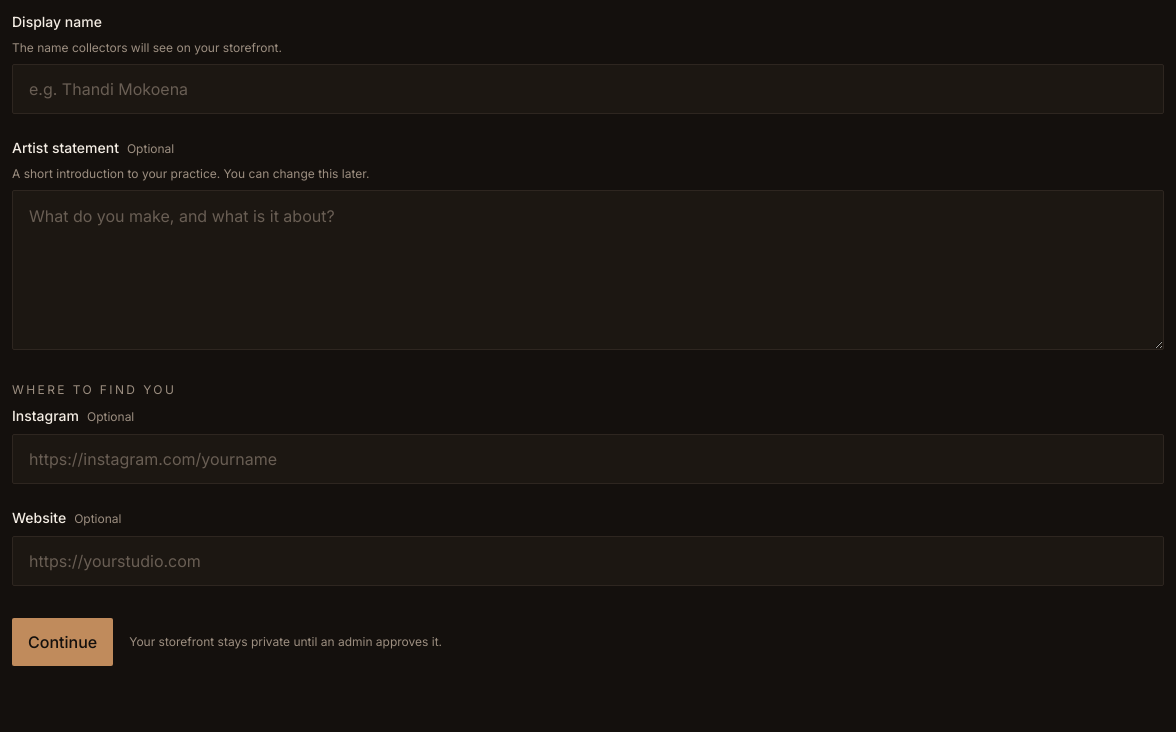
ArtistProfileForm — validation › clears the error once the field is corrected and resubmitted
Click the button "Continue" at (63, 642), box top-left (12, 618), bottom-right (113, 666)
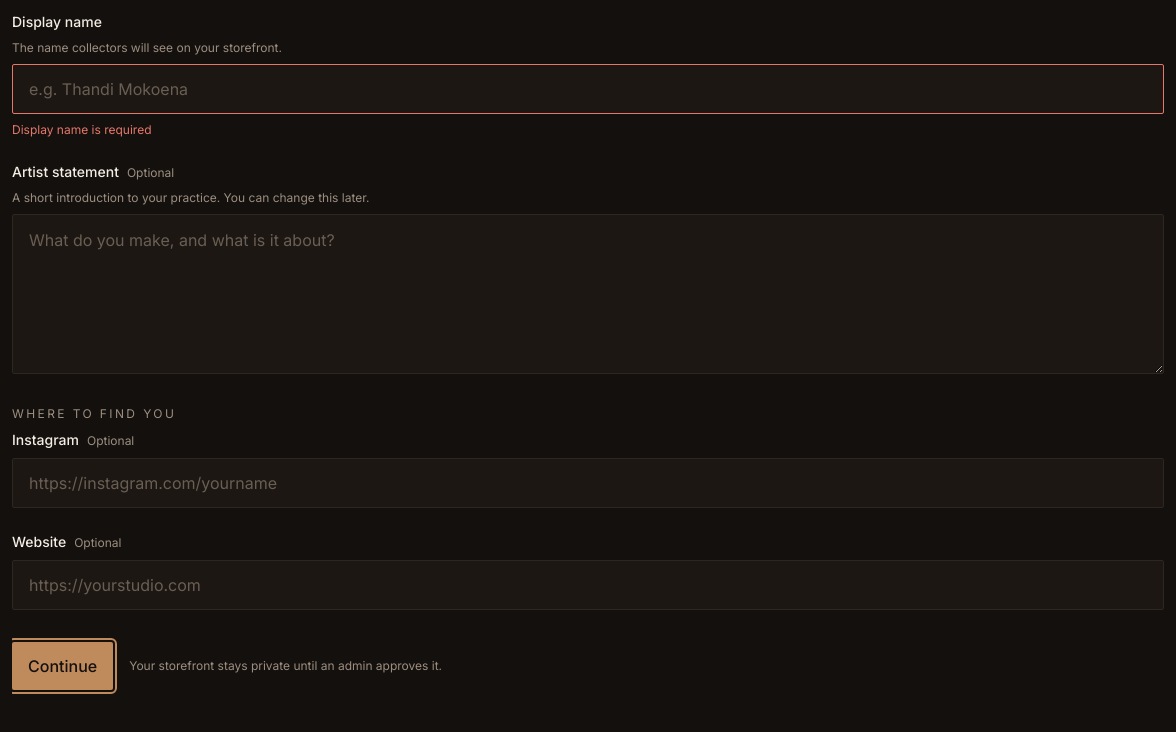
Check: the text "Display name is required" is shown, box top-left (12, 122), bottom-right (152, 137)
Type "Thandi Mokoena" into the field labelled "Display name" at (588, 89), box top-left (12, 64), bottom-right (1164, 114)
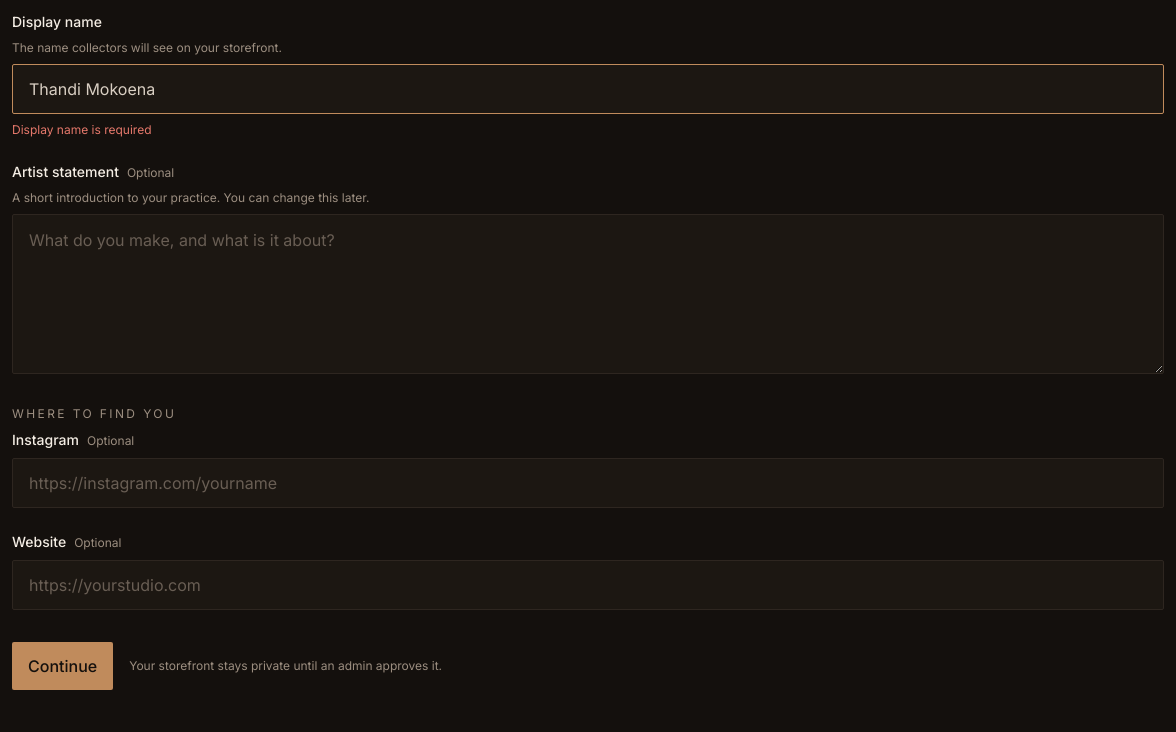
Click the button "Continue" at (63, 666), box top-left (12, 642), bottom-right (113, 690)
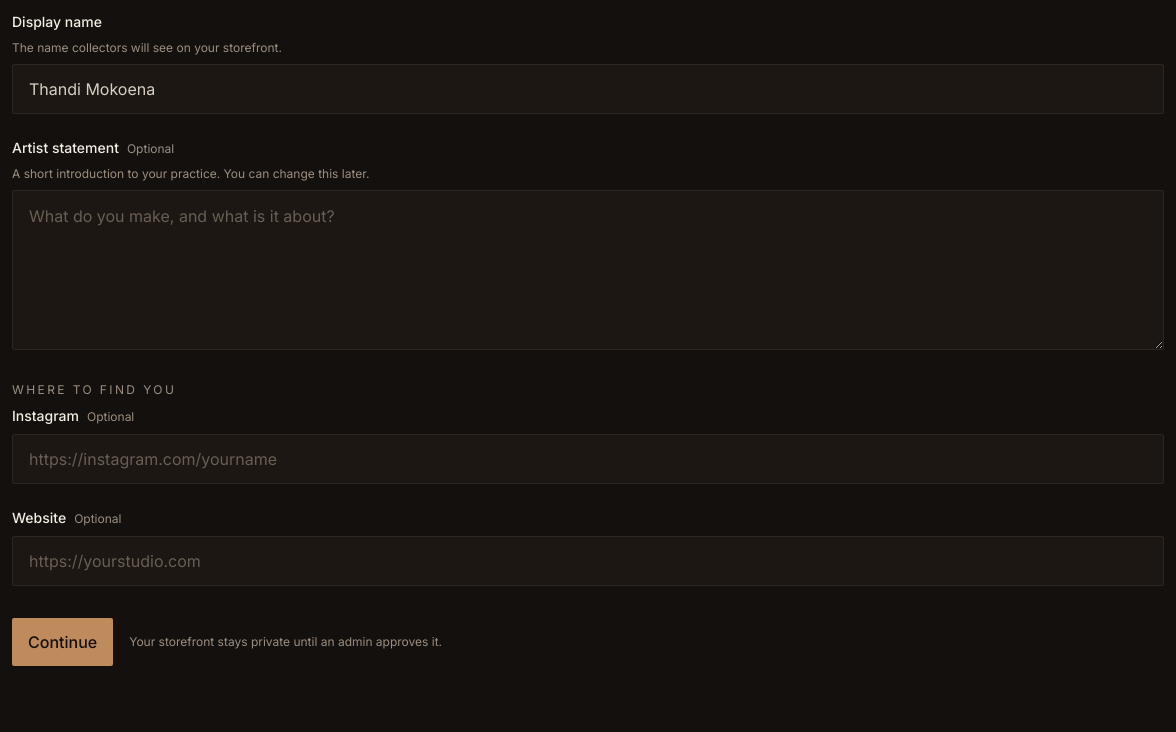
Check: the text "Display name is required" is gone
